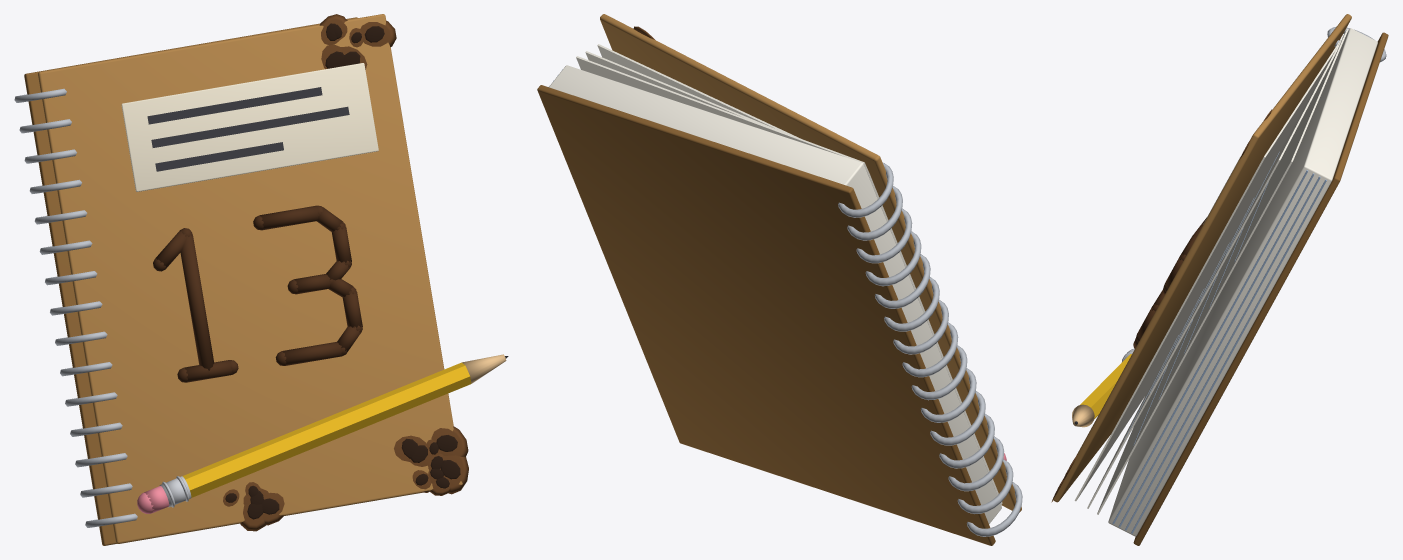
The model's file is hero_notebook.glb.
The picture shows the model from 3 angles, left to right: view 1: azimuth 30°, elevation 25°; view 2: azimuth 150°, elevation 25°; view 3: azimuth 270°, elevation 25°; orthographic projection. The views are drawn at different scales.
Visible parts, largest first — view 1: hero_notebook; view 2: hero_notebook; view 3: hero_notebook.
Part boxes in pixels (x1,y1,x2,y2): hero_notebook: (14,14,508,545); hero_notebook: (537,14,1022,545); hero_notebook: (1051,14,1388,545).
Size of the model in its own units: 0.8851 by 1 by 0.7266.
